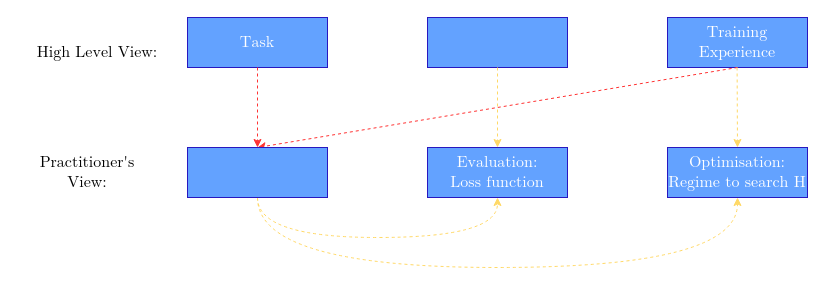
Image size: 825x285. Some labels were removed from this diagram. Each missing label, with the centre of its shape:
"Performance Measure" goes at (x=497, y=42).
"Representation: H, Features" goes at (x=257, y=172).
